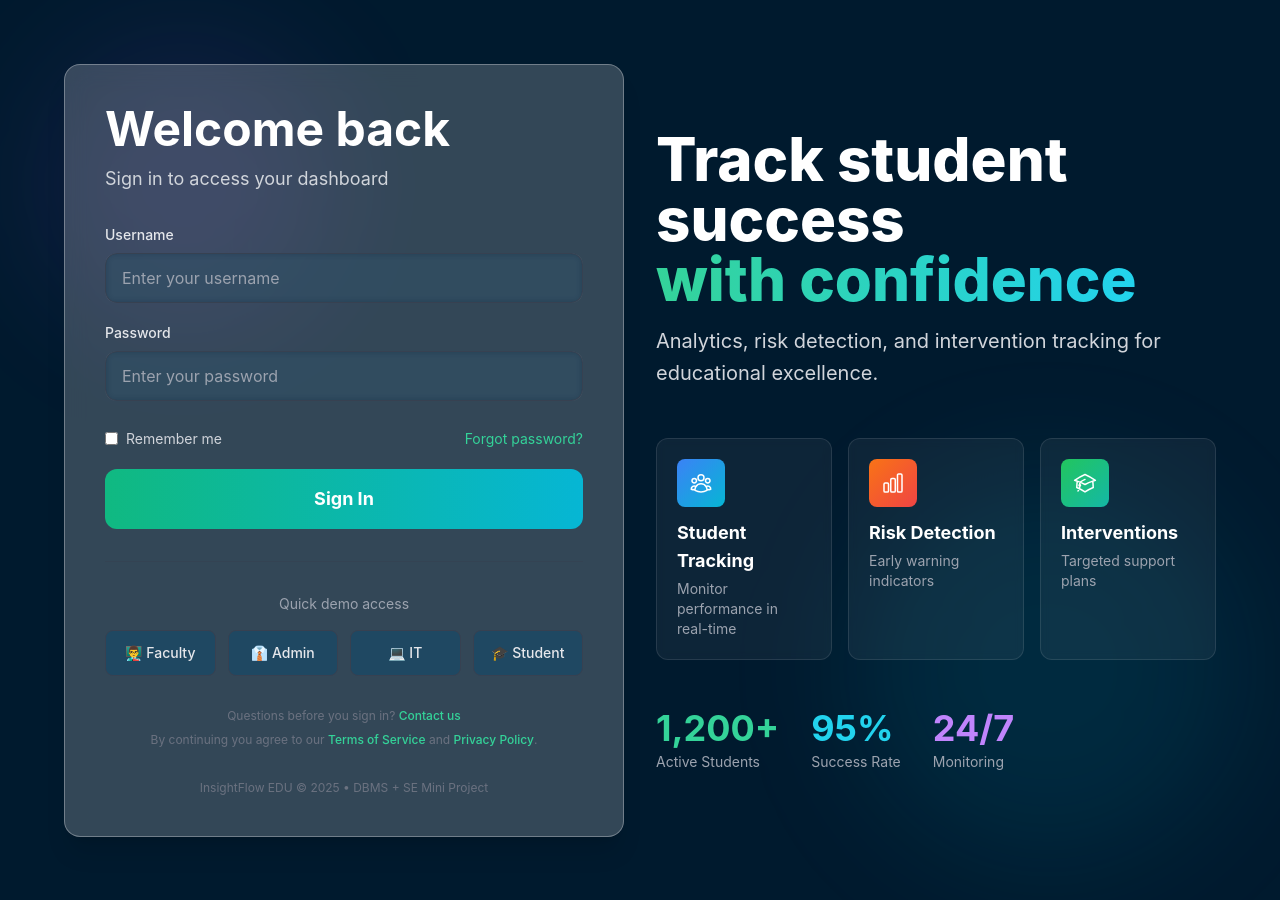
it: LoginPage › validates minimum length for username and password
Type "ab" into the field labelled "Username" at (344, 278), box top-left (105, 252), bottom-right (583, 302)
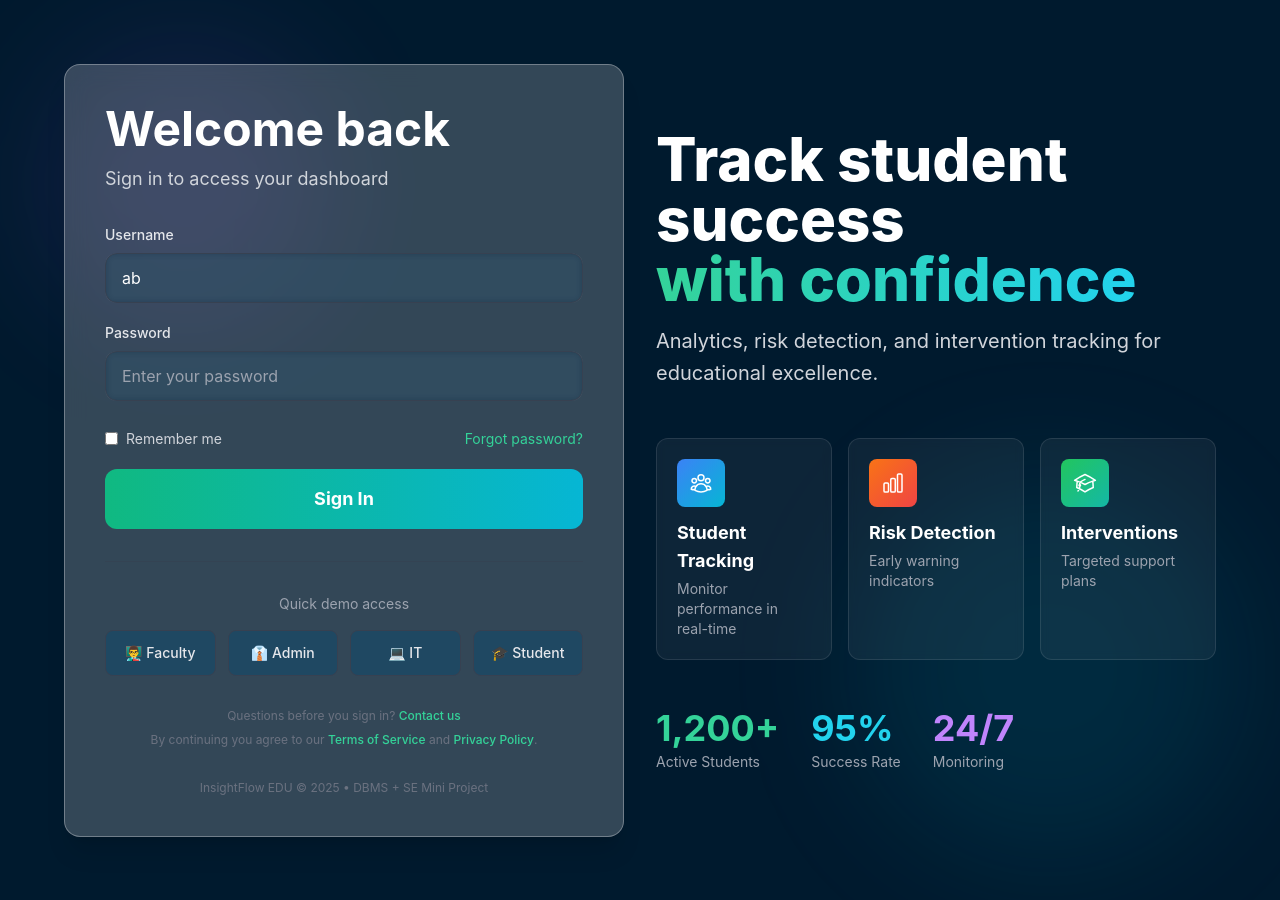
Type "12345" into the password field labelled "Password" at (344, 376), box top-left (105, 350), bottom-right (583, 400)
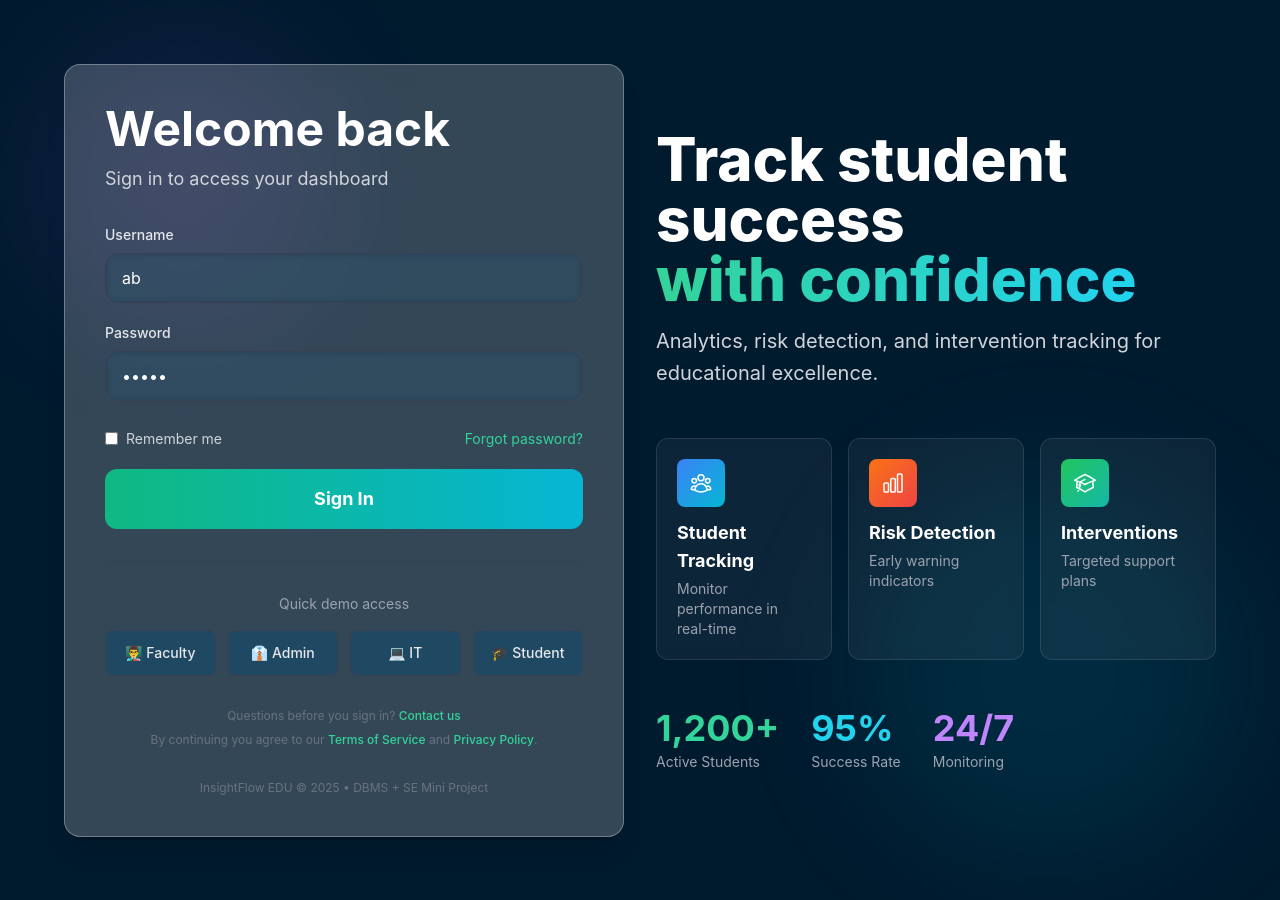
Click the button "Sign In" at (344, 498), box top-left (105, 468), bottom-right (583, 528)
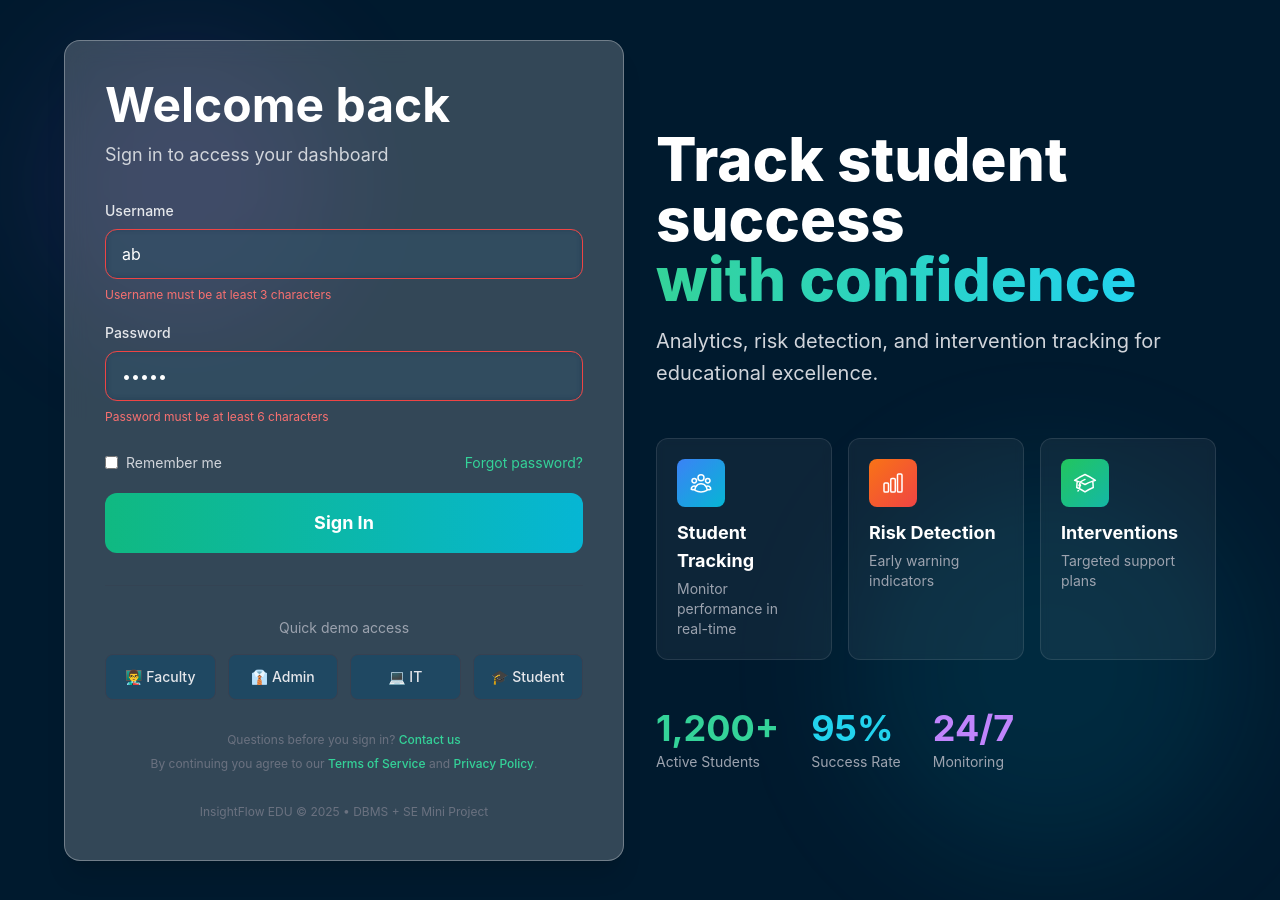
Now the text "Username must be at least 3 characters" is shown, box top-left (105, 286), bottom-right (331, 302)
Now the text "Password must be at least 6 characters" is shown, box top-left (105, 408), bottom-right (329, 424)
